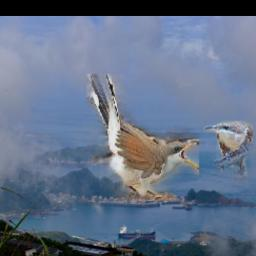Cuckoo: (87, 74, 200, 201), (204, 121, 254, 184)
